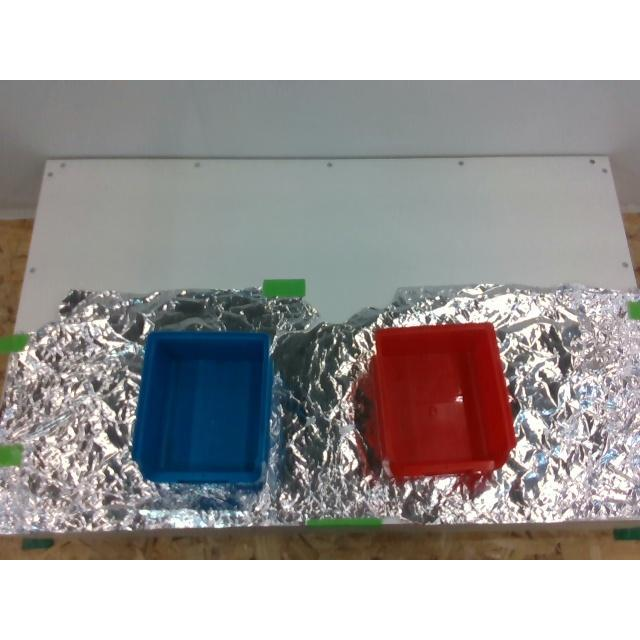container_box_blue: (134, 331, 270, 483)
container_box_red: (361, 323, 515, 479)
